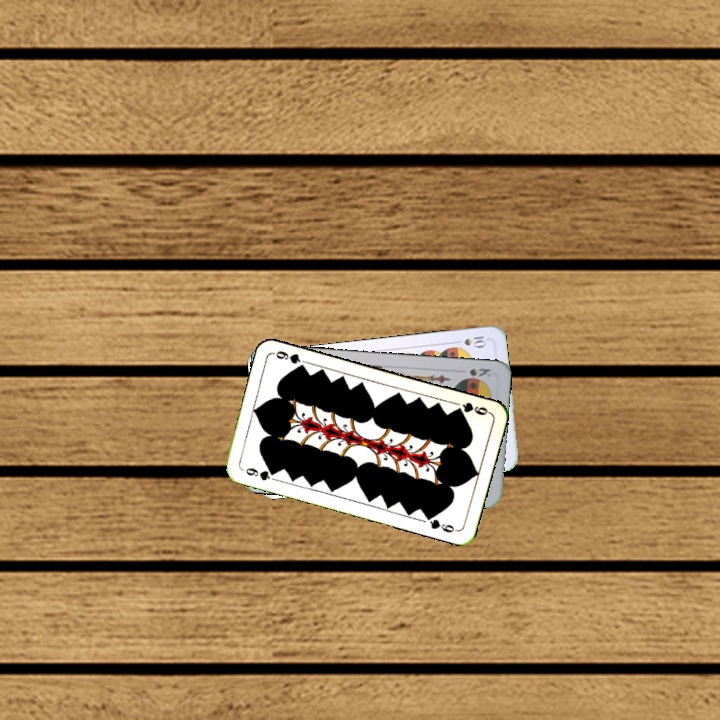G9: (451, 398, 492, 418), (238, 464, 279, 483)
S10: (450, 332, 490, 350)
SK: (460, 364, 493, 382)
